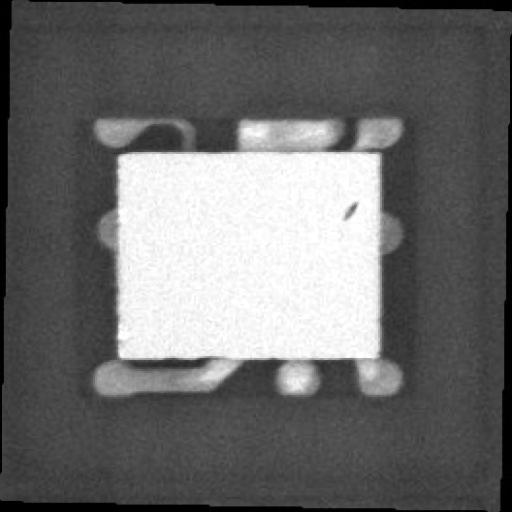DIE_INK: (325, 207, 343, 231)
